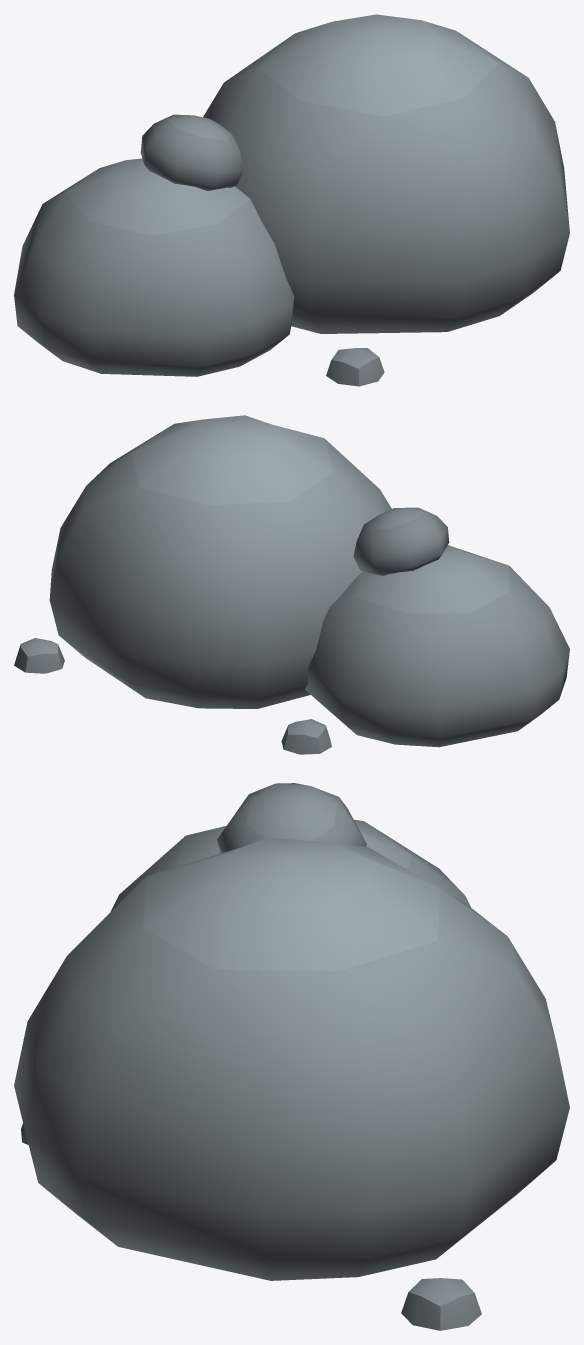
Rendered from Rock_5_E_Color1.gltf.
3 renders of one model, top to bottom at view 1: azimuth 30°, elevation 25°; view 2: azimuth 150°, elevation 25°; view 3: azimuth 270°, elevation 25°, orthographic. The views are drawn at different scales.
Parts seen in each view (by area): view 1: Rock_5_E_Color1; view 2: Rock_5_E_Color1; view 3: Rock_5_E_Color1.
Part boxes in pixels (x1=…): Rock_5_E_Color1: x1=14, y1=14, x2=569, y2=386; Rock_5_E_Color1: x1=14, y1=415, x2=569, y2=754; Rock_5_E_Color1: x1=14, y1=783, x2=569, y2=1330.
Size of the model in its own units: 2.03 by 0.9247 by 1.34.
1 material, 1 textured.
